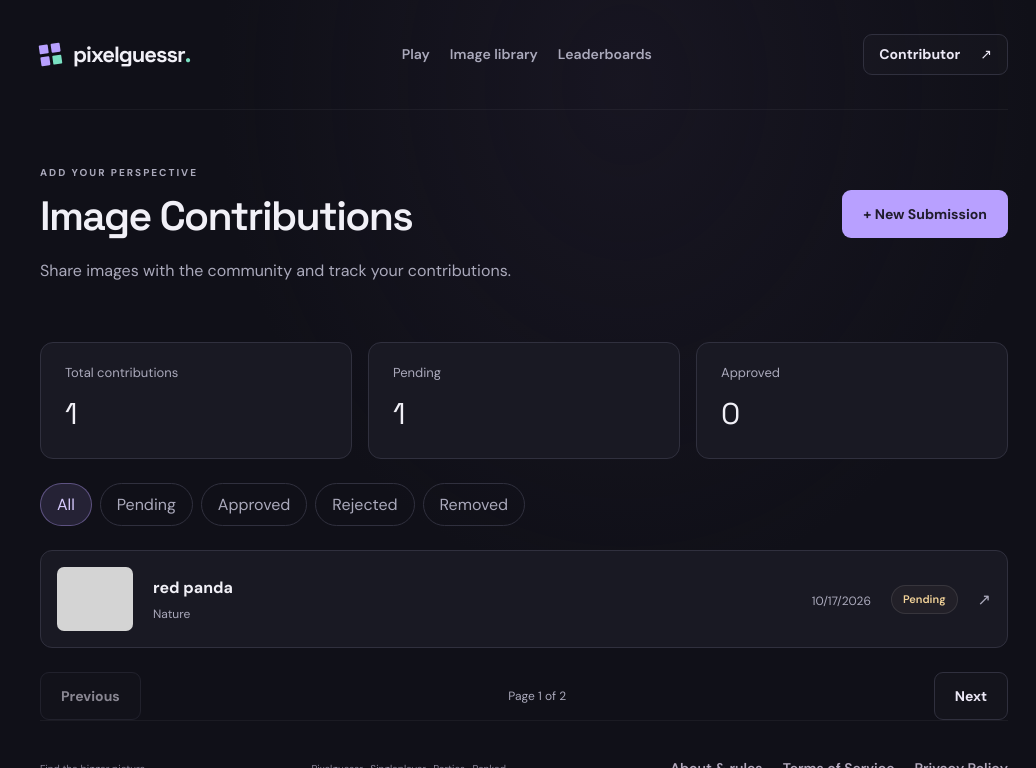
Test: paginates and filters through the server while staying on the dashboard
Expected: the button "red panda Nature 10/17/2026 Pending ↗" is shown, [40, 550, 1008, 648]
Step 1. Click the button "Next" → (971, 696), box [934, 672, 1008, 720]
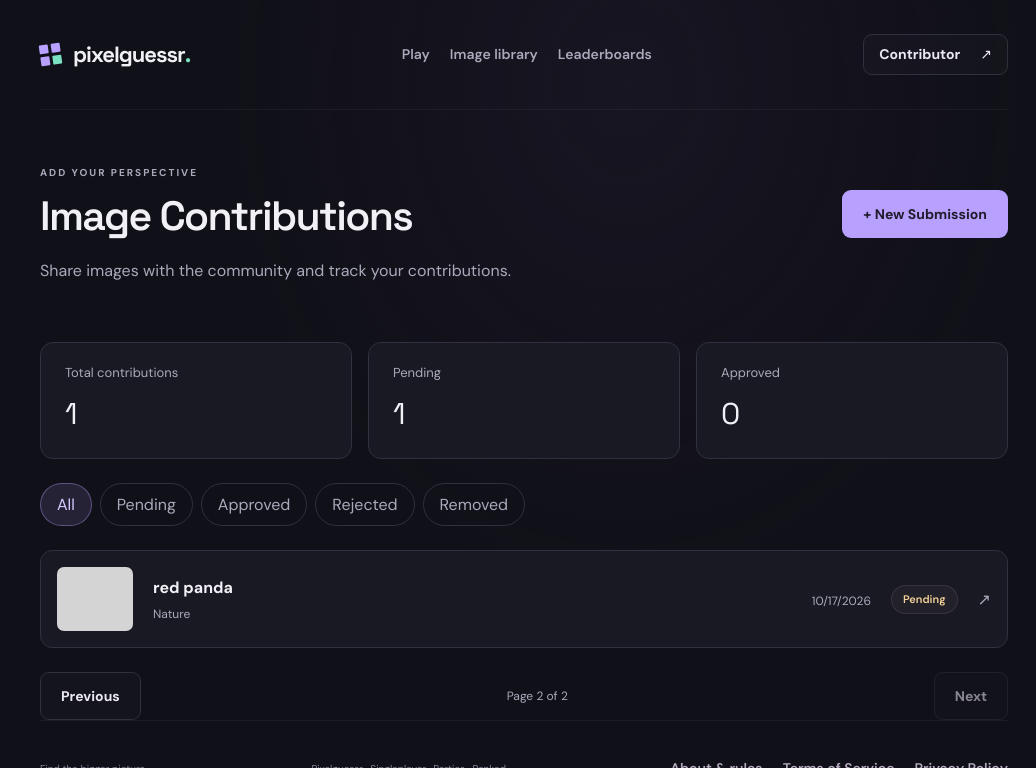
Step 2. Click the button "Approved" → (254, 505), box [201, 483, 307, 526]
(page scrolled)
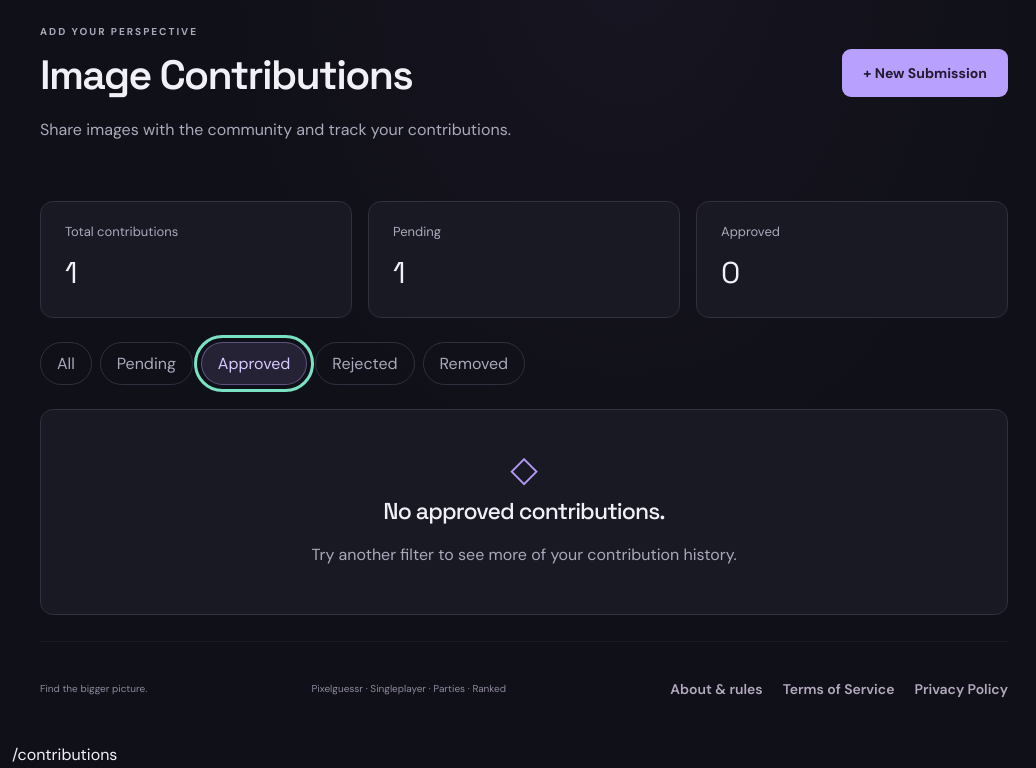
Expected: the text named "Current route" reads "/contributions", [12, 744, 117, 765]
Expected: the heading "No approved contributions." is shown, [383, 496, 665, 526]
